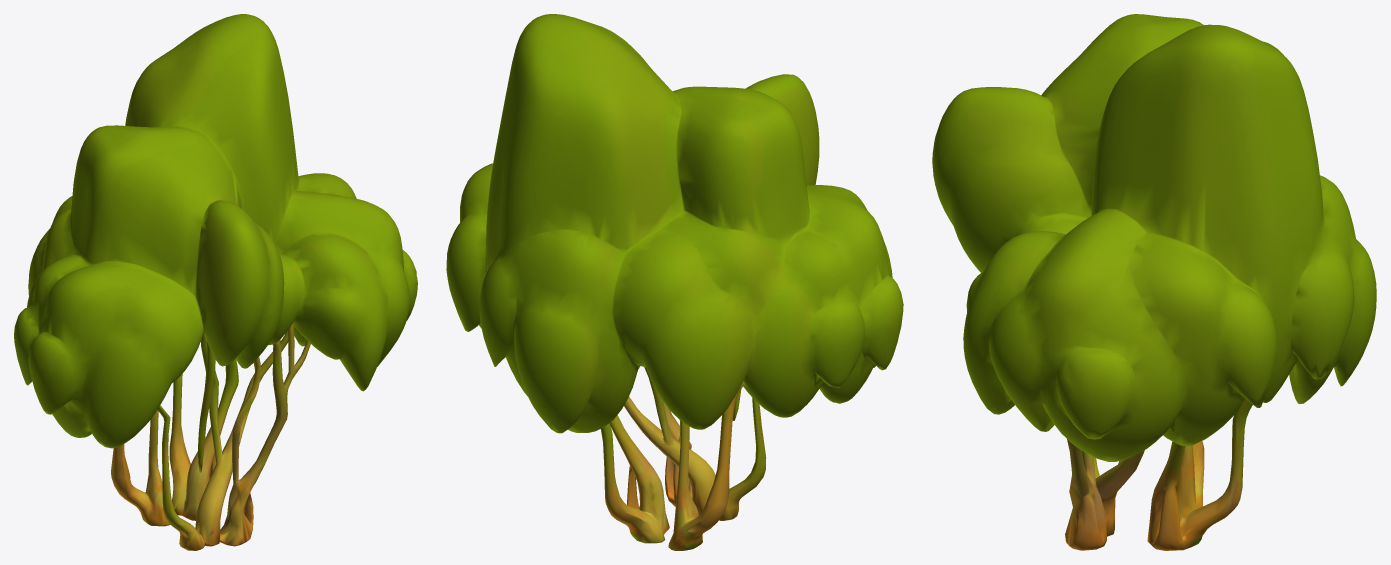
File: Tree01.fbx
3 views of the same model, side by side, from view 1: azimuth 30°, elevation 25°; view 2: azimuth 150°, elevation 25°; view 3: azimuth 270°, elevation 25° (orthographic). The views are drawn at different scales.
Visible parts, largest first — view 1: material.001; view 2: material.001; view 3: material.001.
Part boxes in pixels (x1,y1,x2,y2): material.001: [14, 14, 417, 550]; material.001: [446, 14, 903, 550]; material.001: [932, 14, 1376, 550].
Bounding box in the file's own units: 28.65 × 33.61 × 24.65.
1 material, 1 textured.
